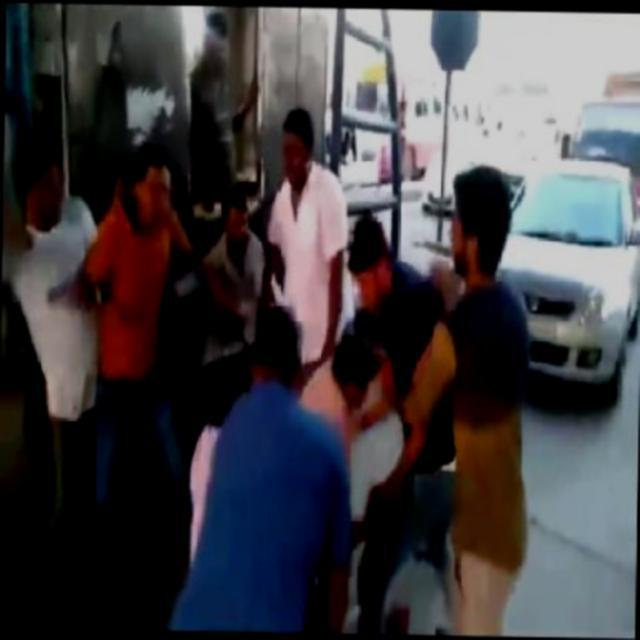fight: (89, 152, 262, 394)
